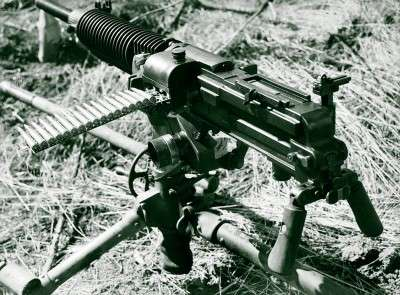rifle: (38, 1, 384, 285)
